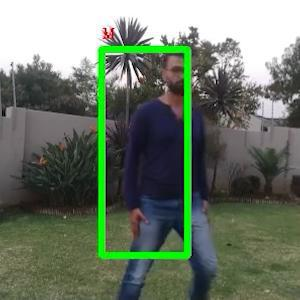follow: (125, 39, 208, 298), (125, 71, 183, 299)
